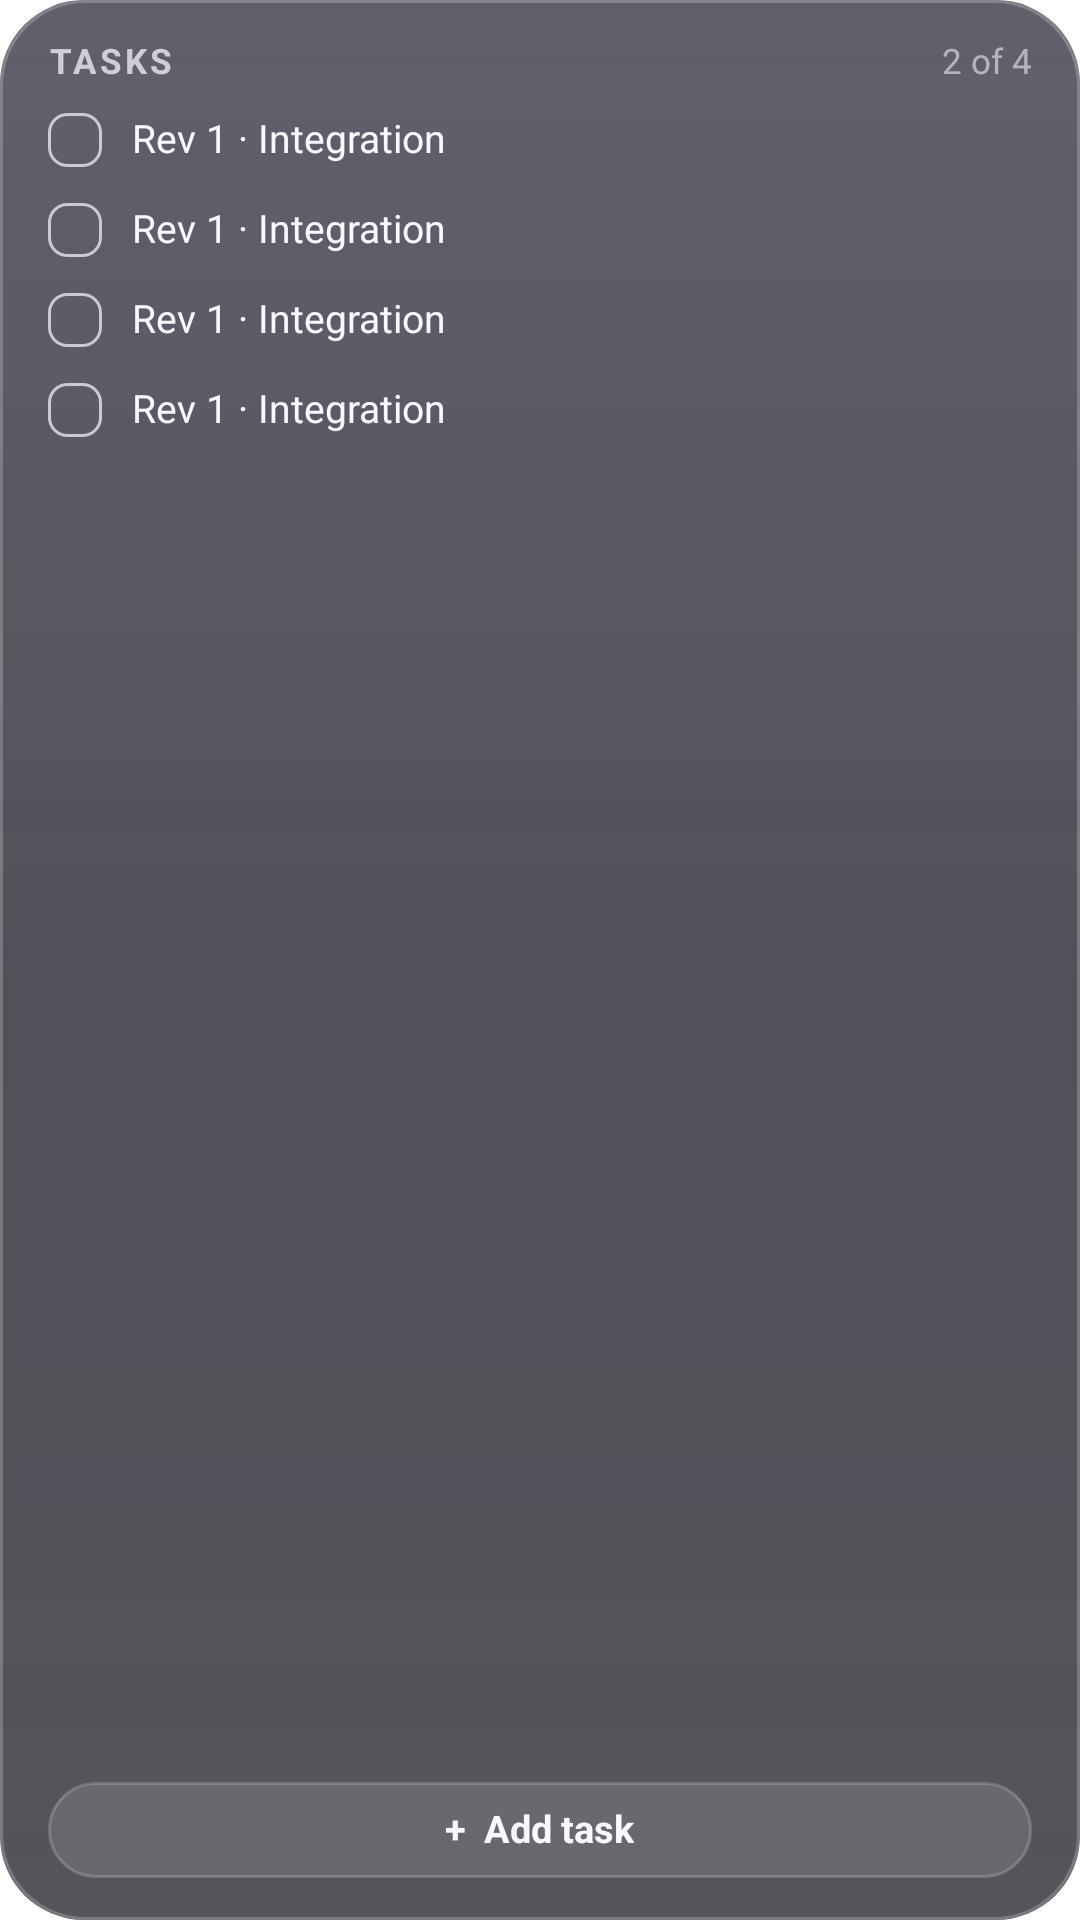

Icon click points for this 1080*1920 phone screenshot, format [x,y]:
widget check: [75,140], [75,230], [75,320], [75,410]
